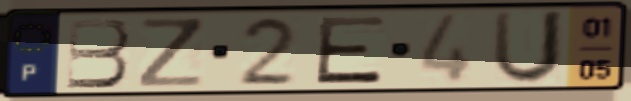2: (236, 14, 302, 88)
4: (416, 10, 480, 87)
B: (64, 16, 134, 91)
E: (311, 13, 390, 87)
U: (488, 8, 570, 87)
Z: (137, 15, 208, 90)
